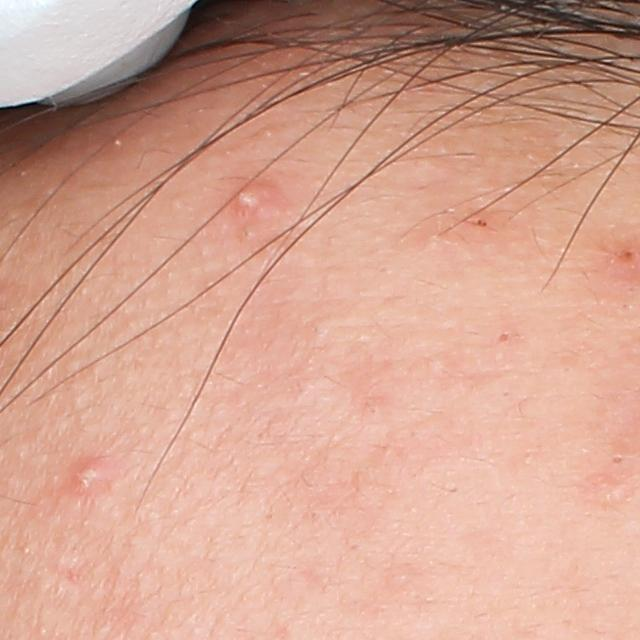comedo: (609, 452, 627, 466), (496, 332, 510, 344)
pustule: (228, 177, 259, 223)
